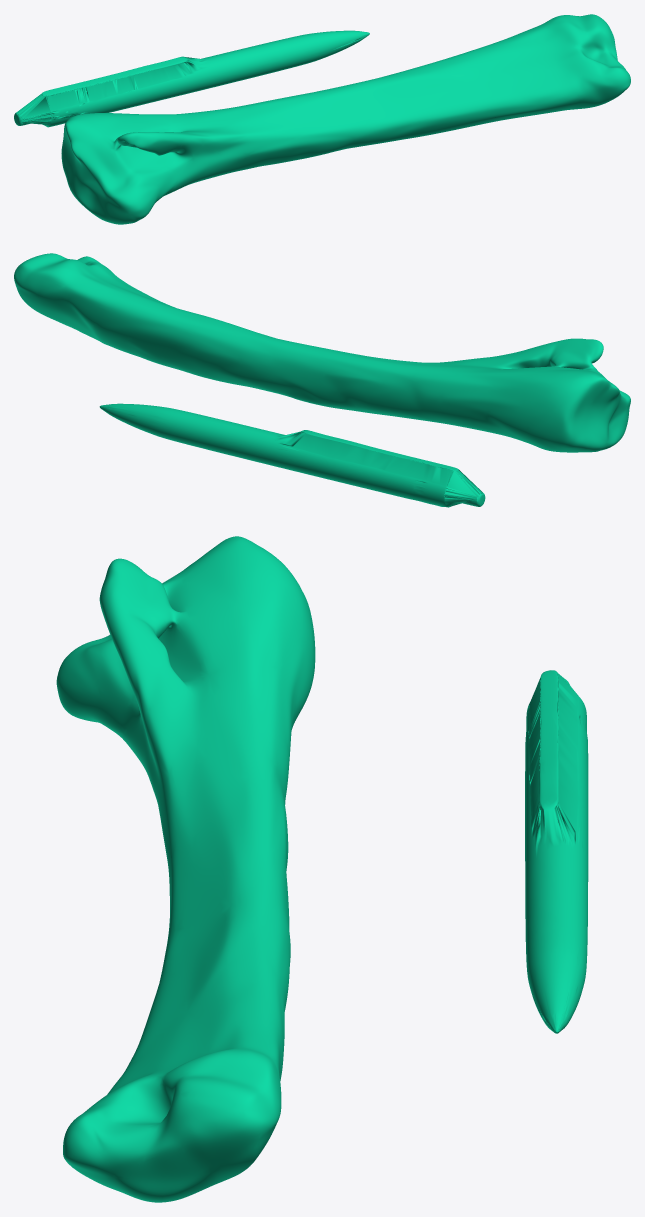
Rendered from bone.glb.
3 renders of one model, top to bottom at view 1: azimuth 30°, elevation 25°; view 2: azimuth 150°, elevation 25°; view 3: azimuth 270°, elevation 25°, orthographic. The views are drawn at different scales.
Parts seen in each view (by area): view 1: default, default.001; view 2: default, default.001; view 3: default, default.001.
Boxes of the visible parts, box(x1,y1,x2,y2) form: default: box(61, 14, 630, 224); default.001: box(14, 30, 369, 127); default: box(14, 253, 630, 452); default.001: box(99, 403, 485, 507); default: box(56, 536, 315, 1202); default.001: box(525, 670, 588, 1033).
Size of the model in its own units: 4.14 by 0.6781 by 1.75.
